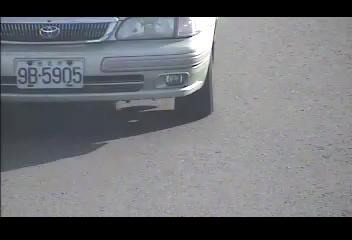plate: (13, 57, 84, 90)
